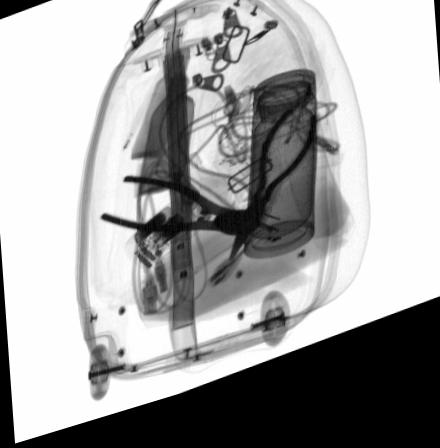Pliers: (227, 121, 317, 274), (100, 182, 260, 251)
